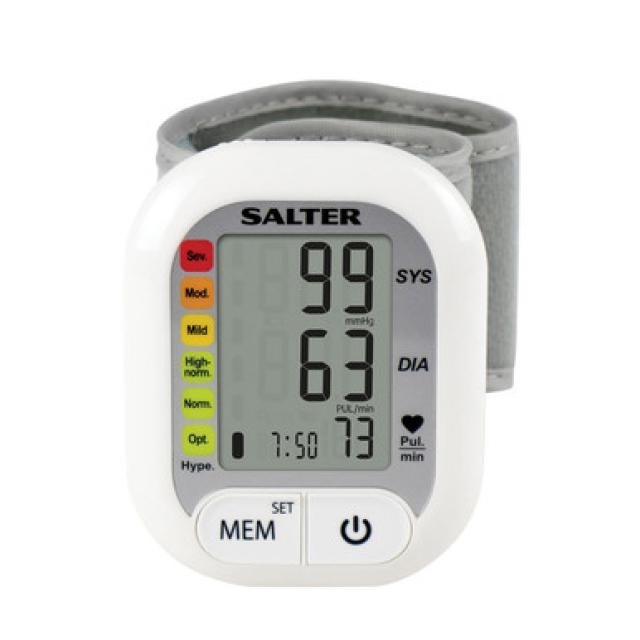dia: (293, 323, 385, 407)
pul: (325, 405, 389, 463)
ssd: (217, 233, 393, 473)
sys: (292, 234, 381, 314)
